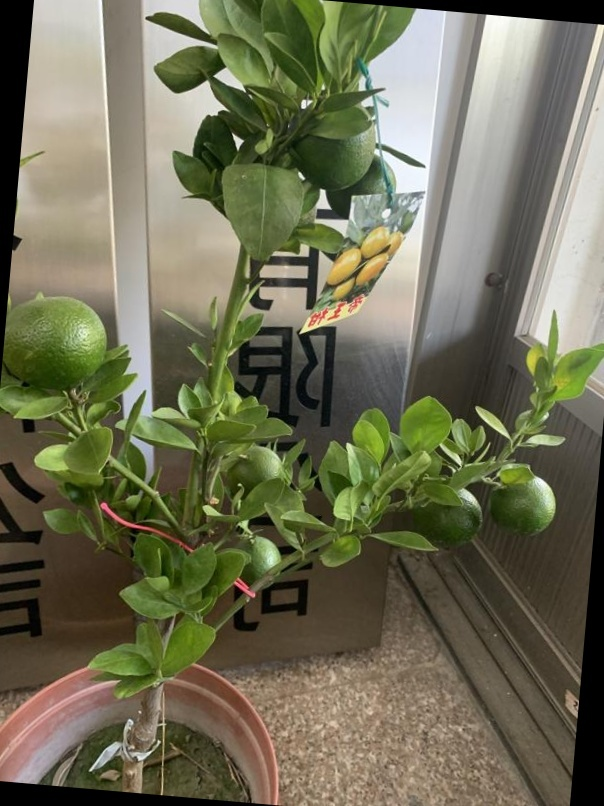Tangerine: (6, 298, 106, 389), (490, 470, 559, 539)
